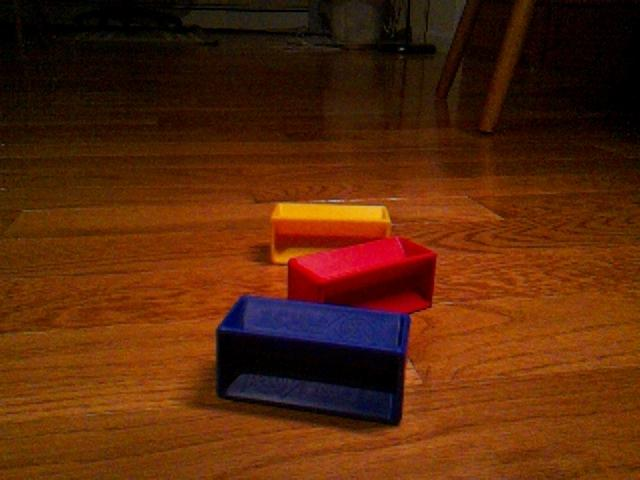blue: (214, 293, 412, 426)
red: (286, 234, 438, 315)
yellow: (269, 201, 393, 265)
